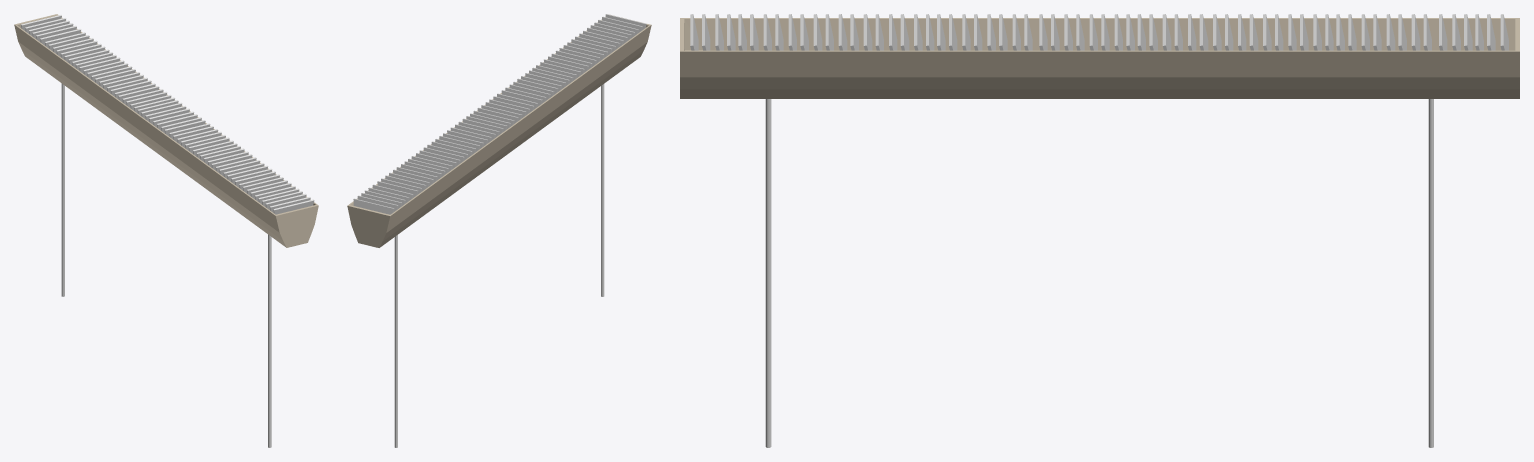
Rendered from LightWithHangers.fbx.
3 renders of one model, left to right at view 1: azimuth 30°, elevation 25°; view 2: azimuth 150°, elevation 25°; view 3: azimuth 270°, elevation 25°, orthographic. The views are drawn at different scales.
Visible parts, largest first — view 1: Underthingys, OuterLamp, Hangers; view 2: Underthingys, OuterLamp, Hangers; view 3: OuterLamp, Underthingys, Hangers.
Boxes of the visible parts, x1,y1,x2,y2 form: Underthingys: (21,15,314,214); OuterLamp: (14,14,318,247); Hangers: (61,83,271,447); Underthingys: (353,14,646,214); OuterLamp: (347,14,651,247); Hangers: (394,84,604,447); OuterLamp: (680,18,1519,98); Underthingys: (690,14,1508,50); Hangers: (765,99,1433,447).
Size of the model in its own units: 14.25 by 82.23 by 150.
